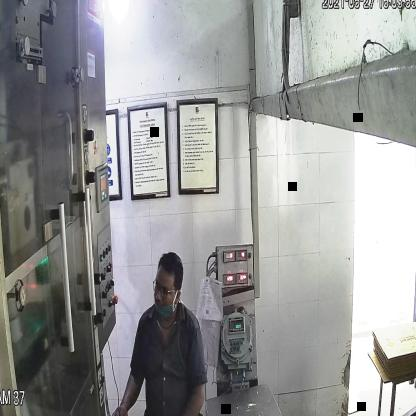goggles: (147, 270, 182, 298)
